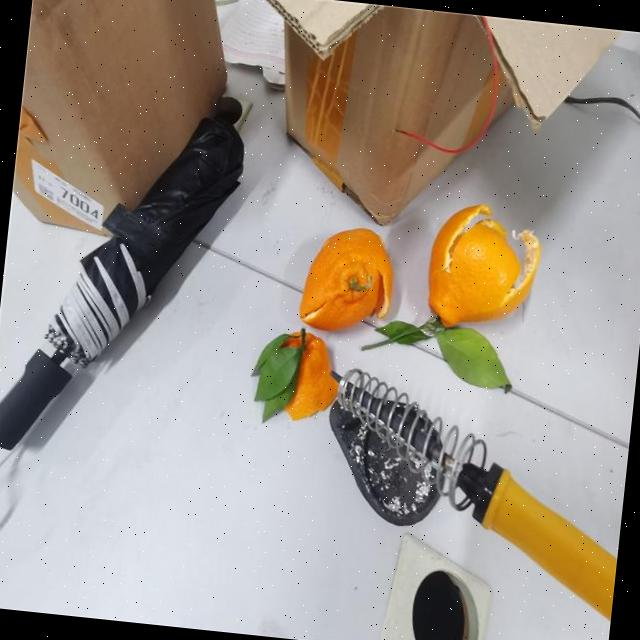orange-peel: (421, 197, 544, 335), (295, 220, 399, 337), (270, 325, 344, 424)
